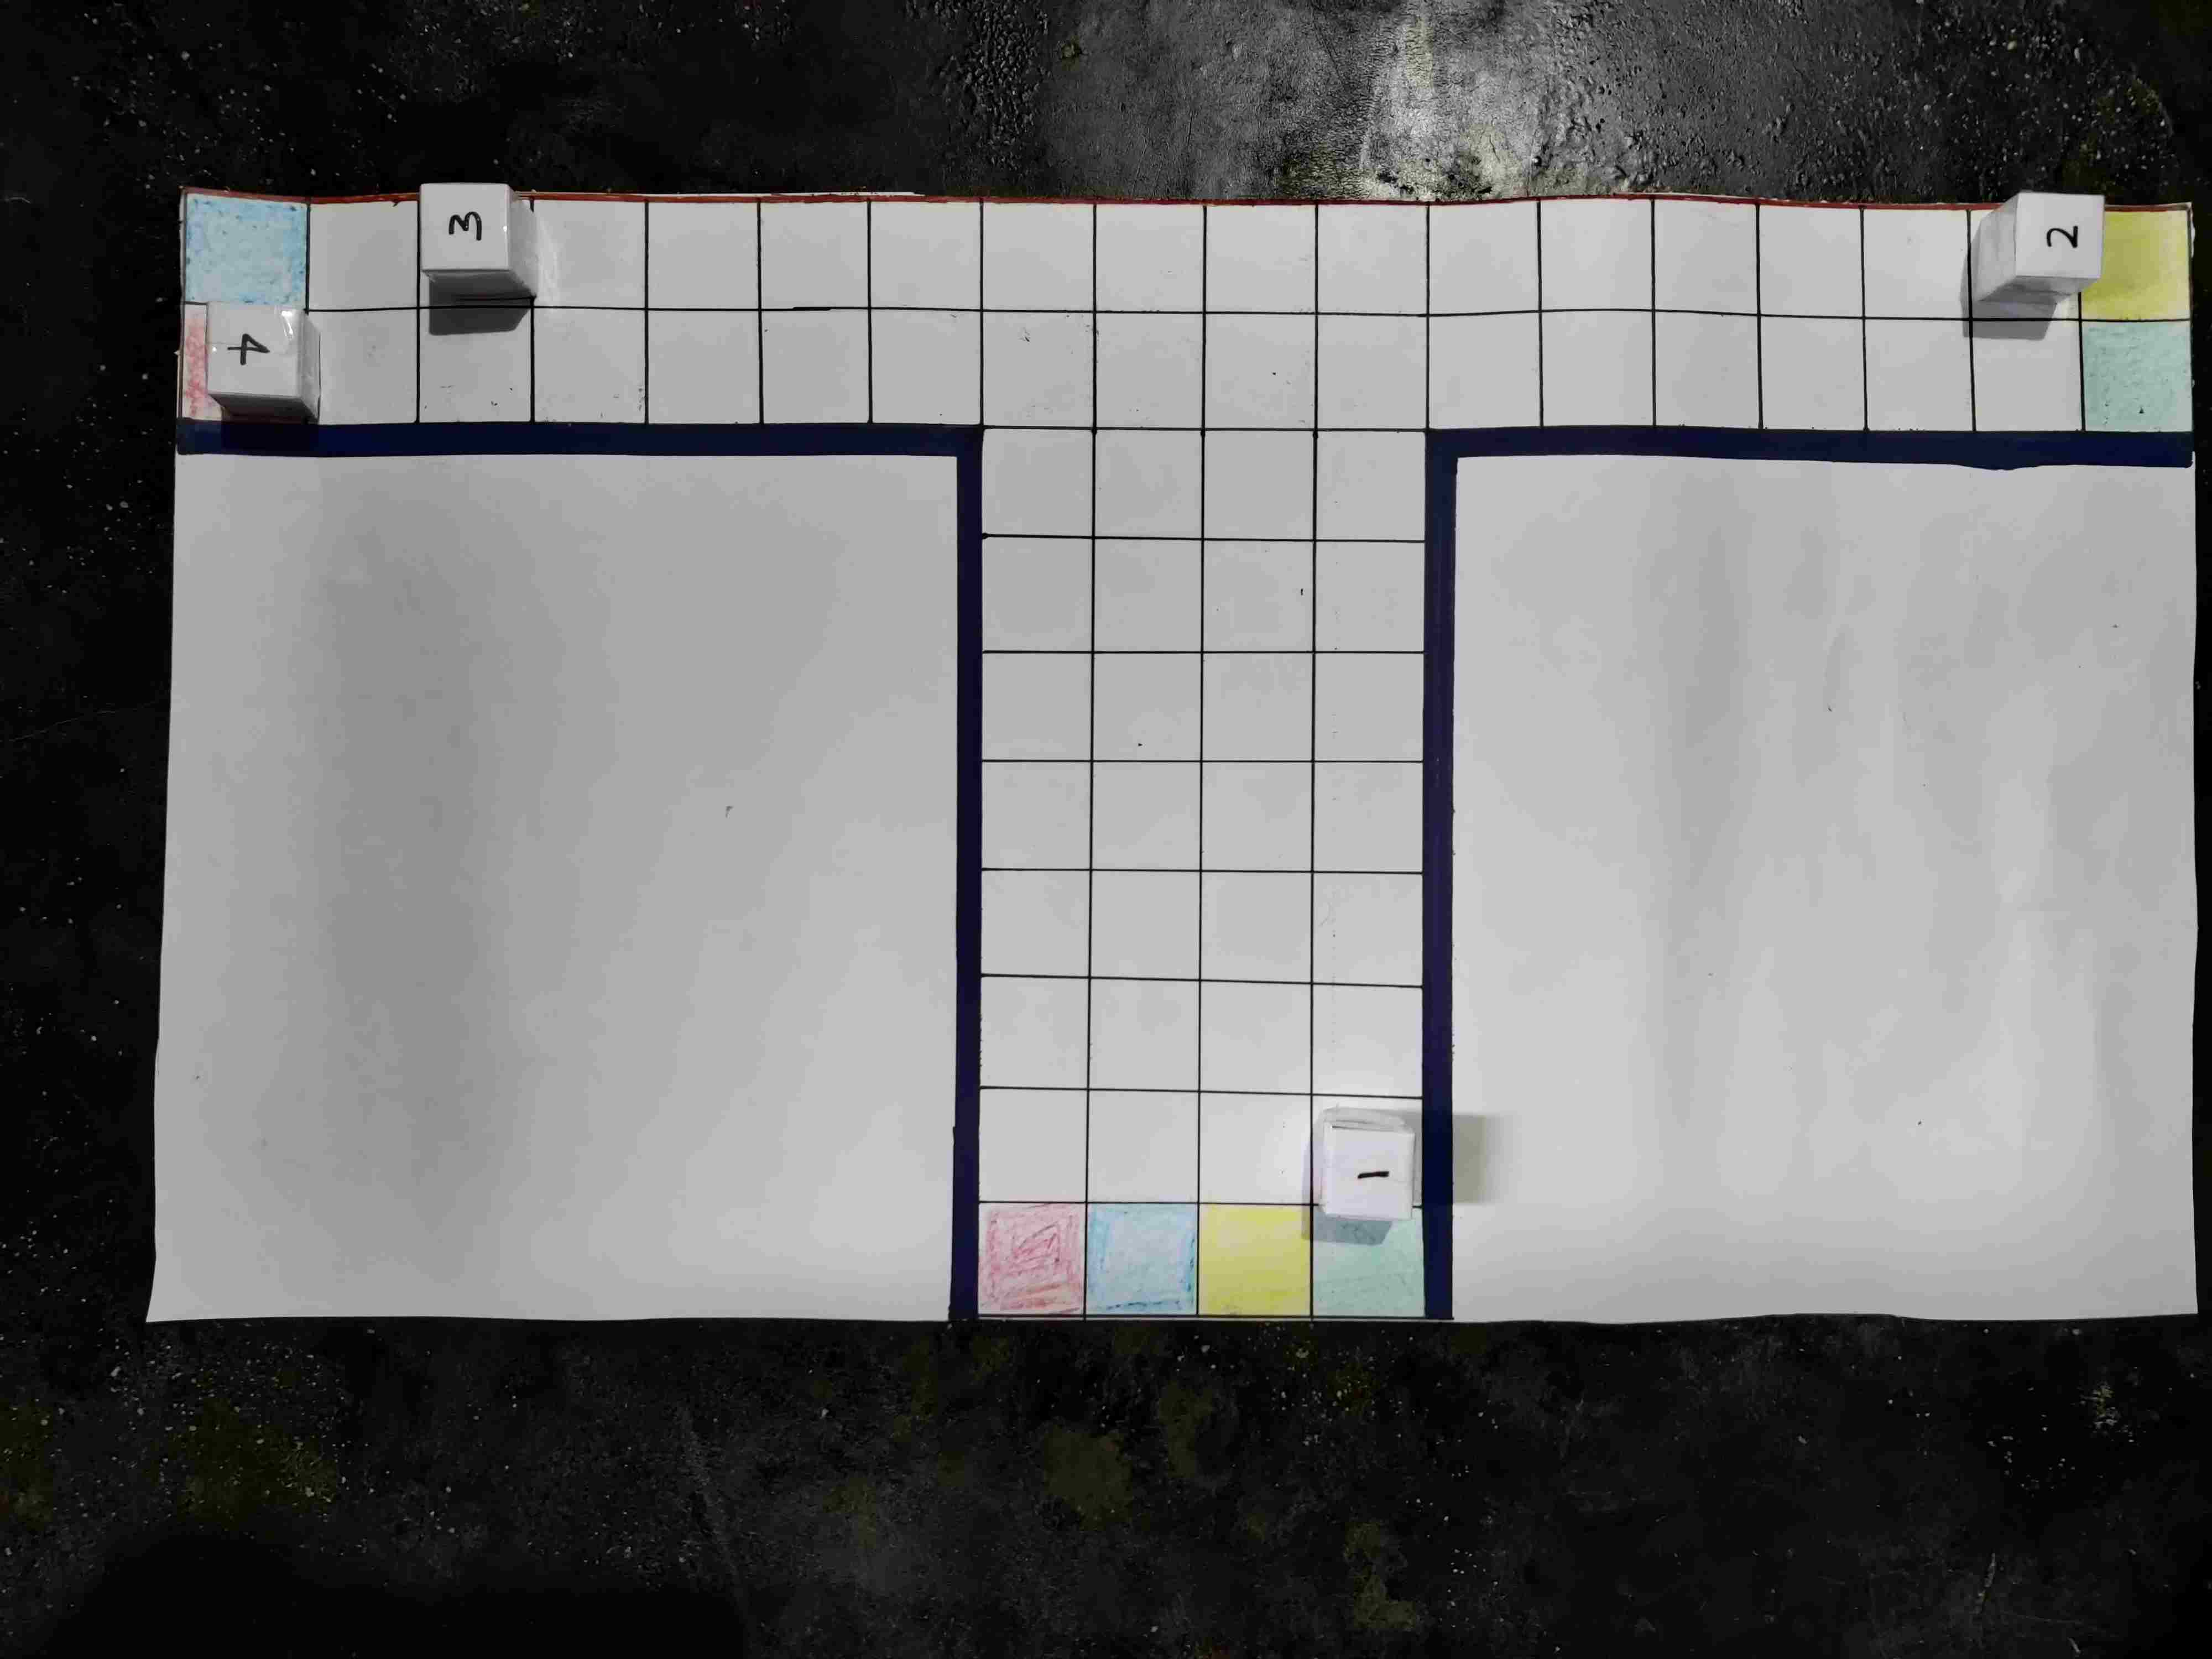arena: (270, 389, 2130, 1412)
bot: (1303, 1028, 1400, 1112), (1181, 927, 1263, 1006), (975, 718, 1055, 796), (1073, 819, 1148, 892)
